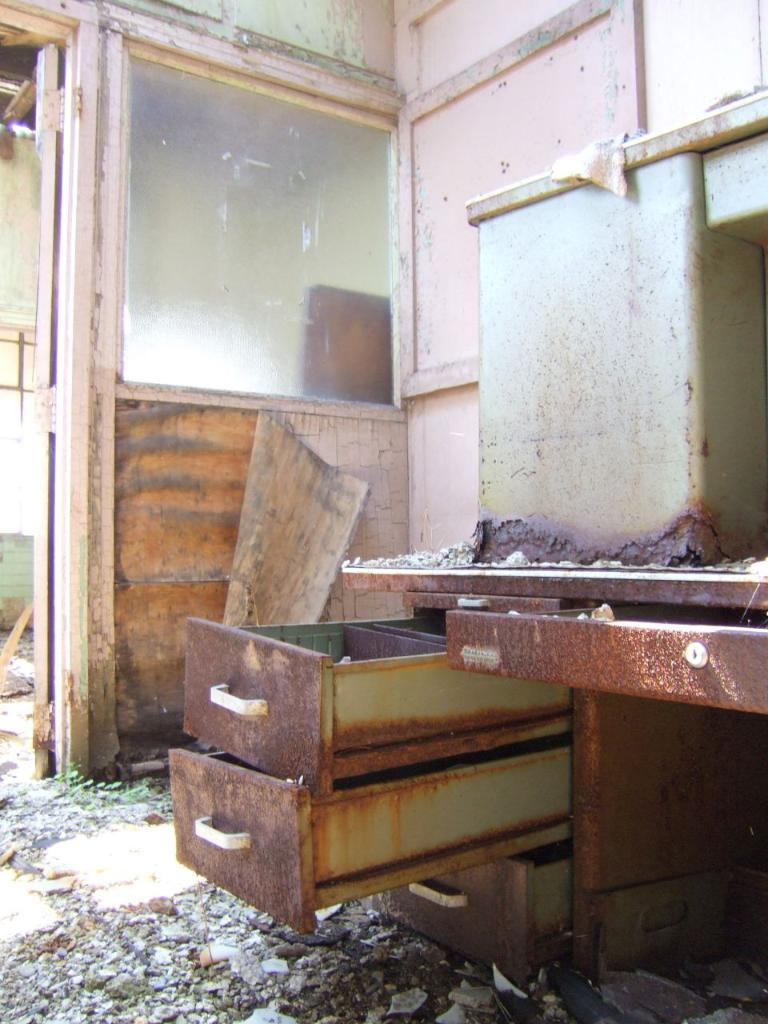cabinet_door: (452, 622, 756, 702), (176, 766, 312, 908), (186, 630, 334, 755), (408, 879, 532, 960)
handle: (189, 806, 251, 864), (208, 686, 276, 722), (412, 884, 465, 924), (460, 648, 511, 676)
